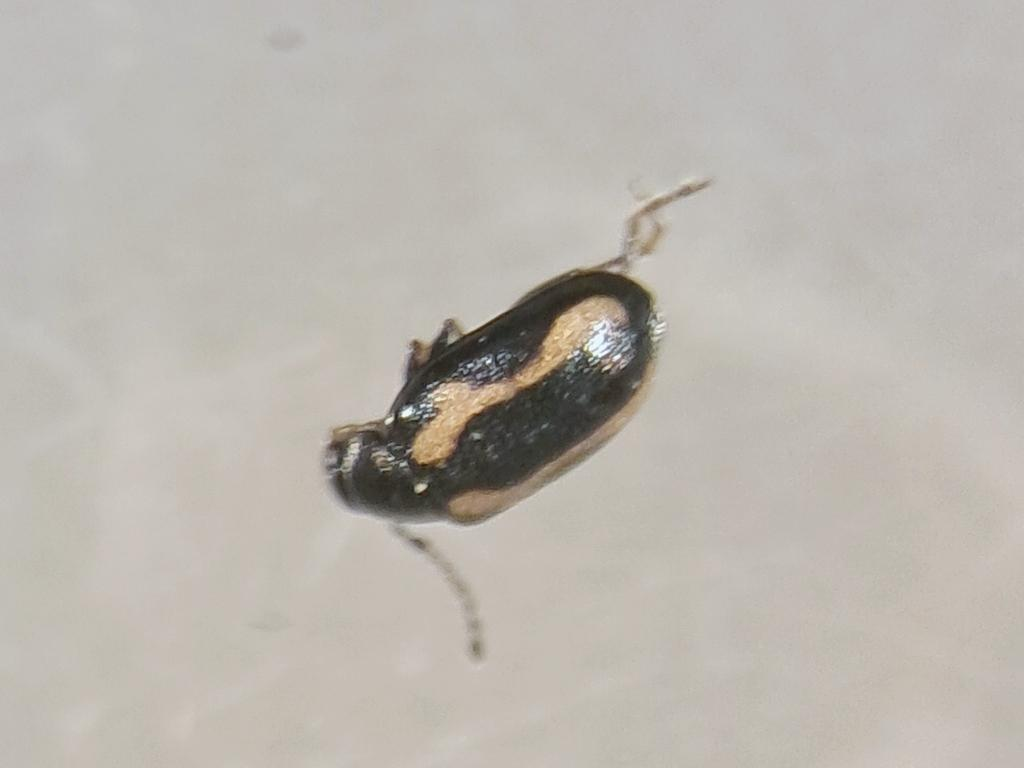flea_beetle: (273, 104, 787, 722)
